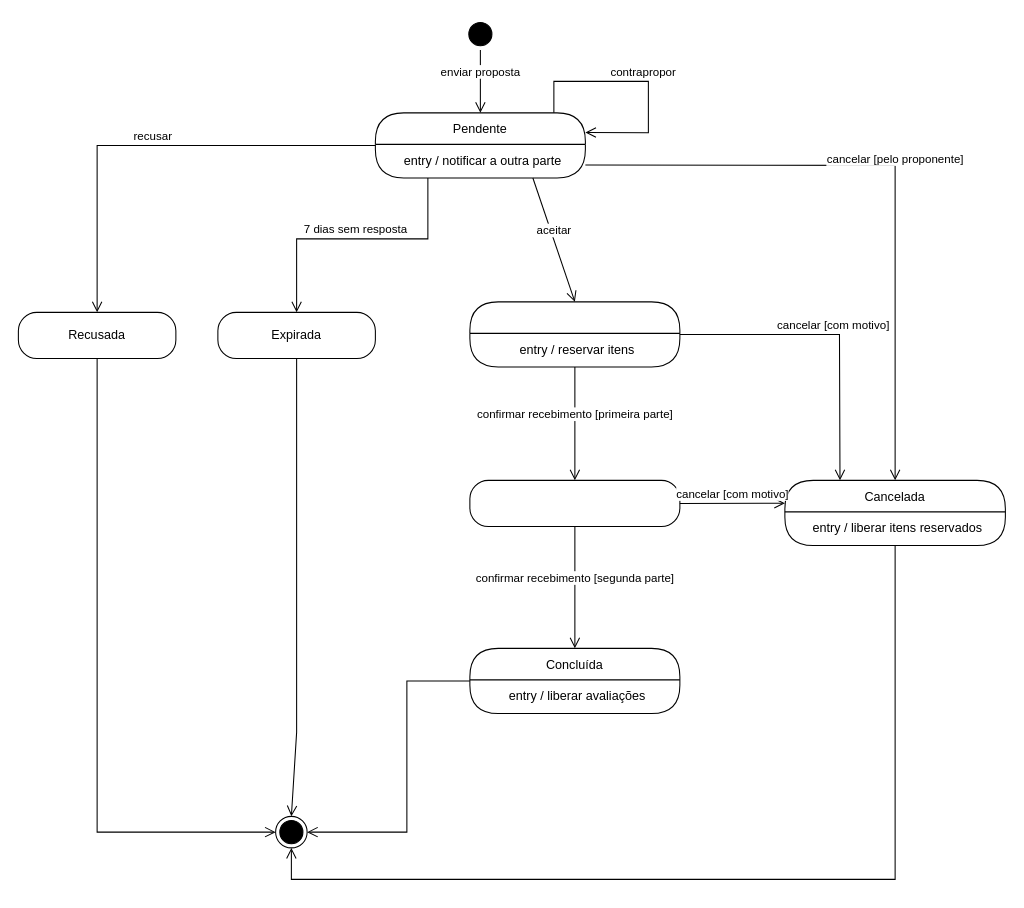
The diagram is 1024 pixels wide and 908 high, and some of its shapes have lost their labels. The box of each missing label's shape, as (x1, y1, x2, y2) in pixels:
Aceita: (469, 301, 680, 367)
Aguardando Confirmação: (469, 479, 680, 527)
